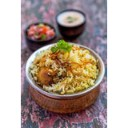briyani: (33, 45, 97, 88)
